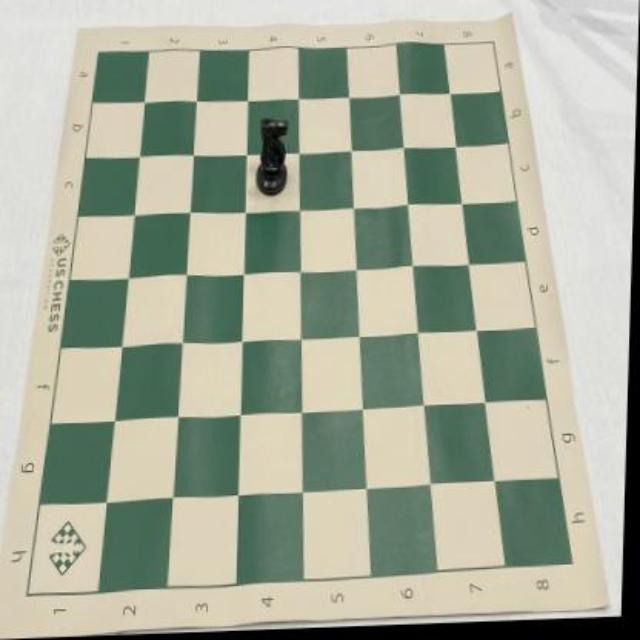black-knight: (255, 117, 291, 201)
